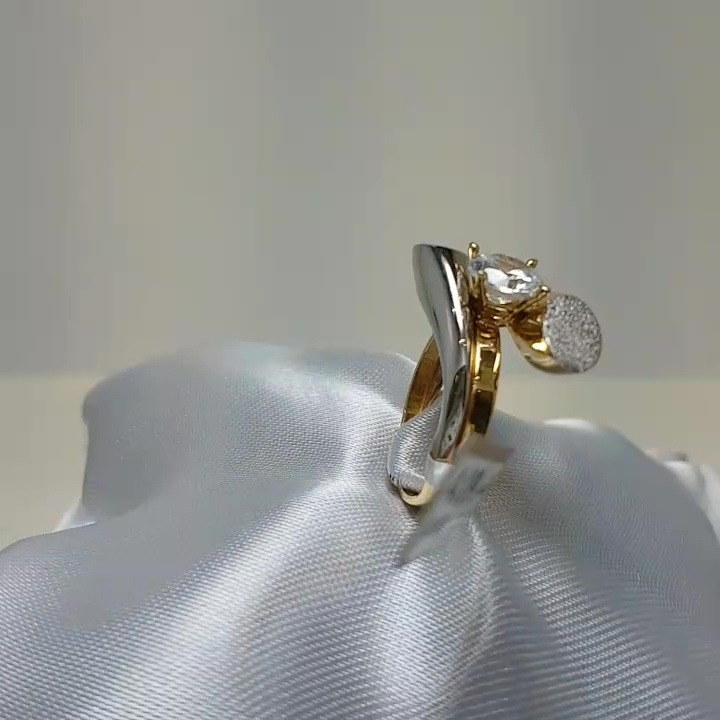Ring 7: (368, 197, 614, 518)
